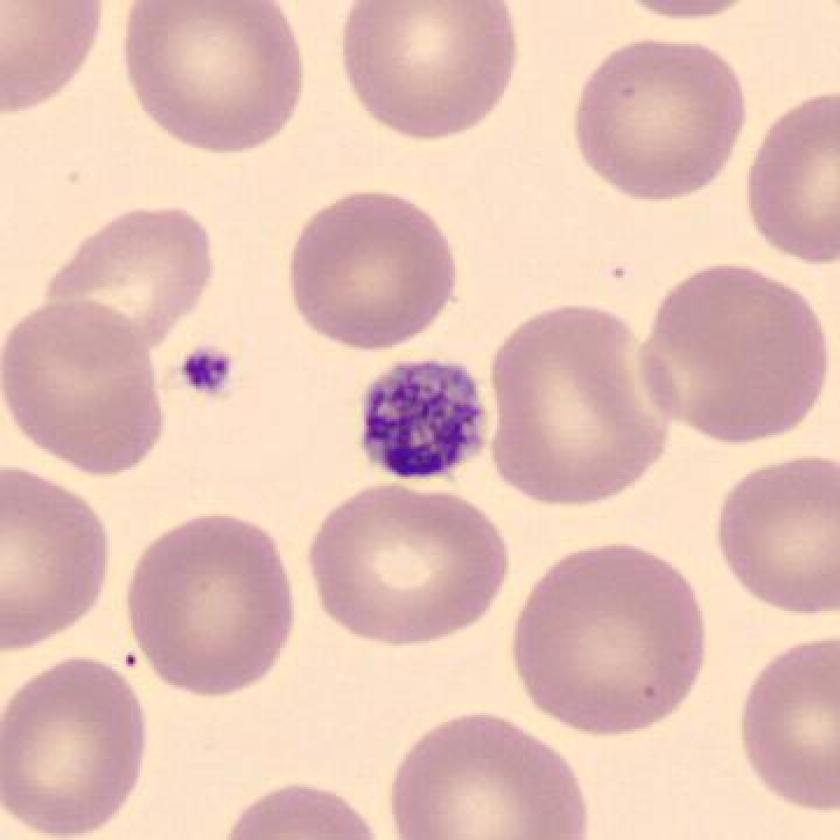platelets: (351, 357, 493, 485), (167, 336, 253, 413)
